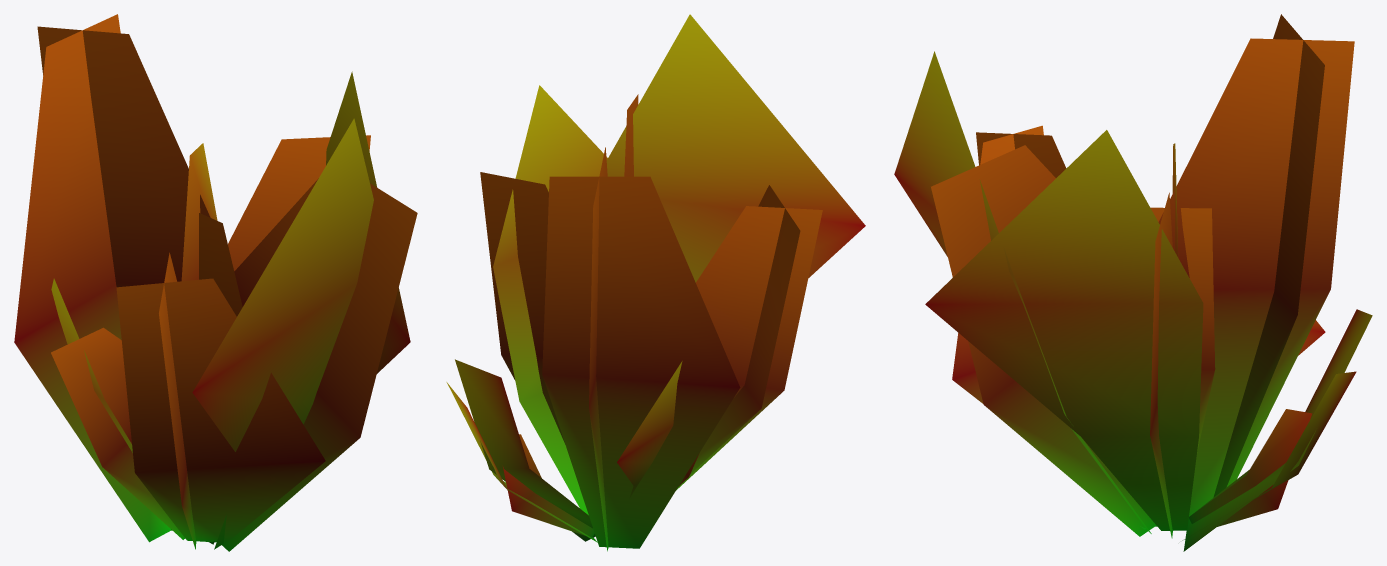
Rendered from Dead Broom Bush_LOD1_Var5_tlpjdhwia.fbx.
3 views of the same model, side by side, from view 1: azimuth 30°, elevation 25°; view 2: azimuth 150°, elevation 25°; view 3: azimuth 270°, elevation 25° (orthographic). The views are drawn at different scales.
Parts seen in each view (by area): view 1: _71da_Var5_LOD1; view 2: _71da_Var5_LOD1; view 3: _71da_Var5_LOD1.
Boxes of the visible parts, left/top/right/bottom form: _71da_Var5_LOD1: left=14, top=14, right=417, bottom=551; _71da_Var5_LOD1: left=446, top=14, right=865, bottom=551; _71da_Var5_LOD1: left=894, top=14, right=1372, bottom=551.
Size of the model in its own units: 18.58 by 27.8 by 23.91.
